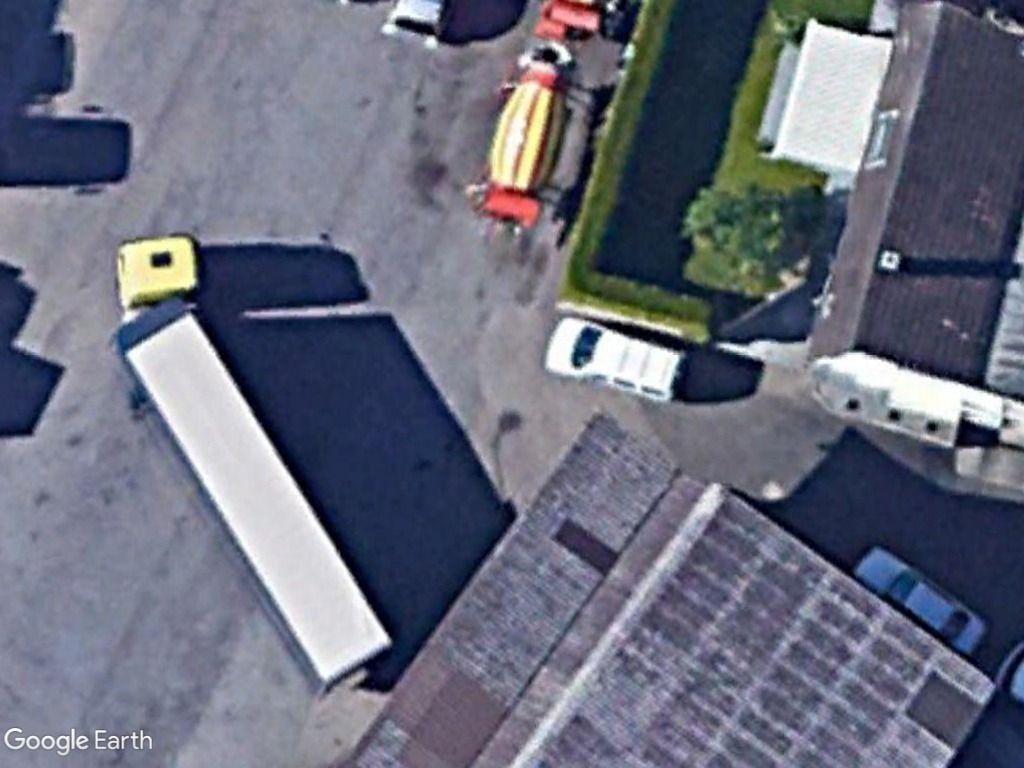car: (542, 313, 685, 403)
longvehicle: (110, 235, 398, 690)
